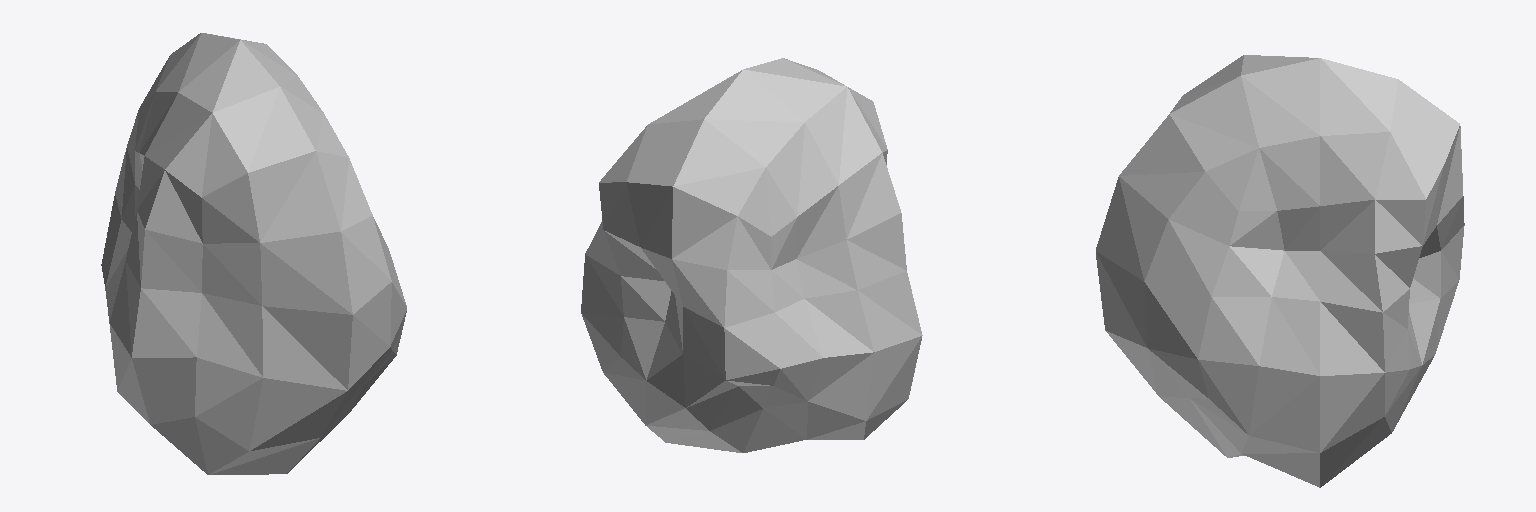
File: Rock1.obj
3 renders of one model, left to right at view 1: azimuth 30°, elevation 25°; view 2: azimuth 150°, elevation 25°; view 3: azimuth 270°, elevation 25°, orthographic.
Parts seen in each view (by area): view 1: Cube; view 2: Cube; view 3: Cube.
Part boxes in pixels (x1,y1,x2,y2): Cube: (101, 33, 406, 474); Cube: (581, 58, 922, 452); Cube: (1096, 55, 1464, 487).
Size of the model in its own units: 1.72 by 2.36 by 1.97.